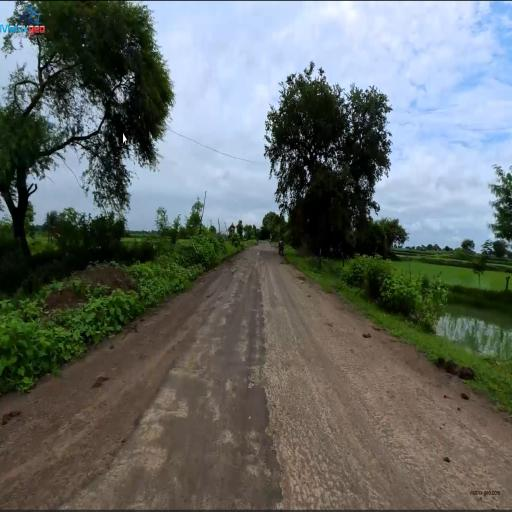ravelling: (240, 347, 332, 494), (138, 375, 228, 462)
